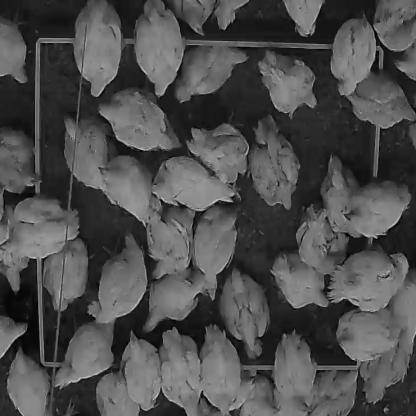chicken: (97, 88, 182, 153), (54, 301, 113, 390), (326, 251, 408, 313), (249, 115, 301, 212), (134, 1, 184, 100), (73, 0, 123, 98), (143, 268, 216, 334), (220, 268, 270, 360), (3, 198, 78, 259), (151, 156, 234, 211), (192, 207, 240, 302), (98, 234, 147, 323), (174, 46, 247, 104), (257, 51, 319, 118), (346, 70, 415, 130), (342, 180, 410, 239), (186, 122, 249, 185), (329, 13, 375, 96), (98, 156, 152, 226), (160, 328, 202, 415), (200, 326, 240, 414), (295, 207, 347, 274), (320, 155, 361, 239), (42, 238, 87, 314), (63, 116, 108, 192), (147, 210, 195, 281), (270, 254, 329, 310), (274, 331, 316, 407), (362, 344, 412, 407), (5, 347, 51, 415), (121, 331, 160, 411), (336, 308, 392, 362), (0, 129, 41, 194), (308, 370, 359, 415), (372, 1, 416, 52), (0, 10, 28, 84), (389, 272, 415, 348), (95, 373, 141, 415), (168, 1, 218, 36), (235, 372, 273, 415), (282, 1, 324, 38), (0, 243, 28, 296), (211, 1, 251, 32), (0, 316, 27, 360), (394, 43, 416, 81), (0, 186, 9, 247), (272, 401, 309, 415), (408, 124, 416, 152), (197, 412, 235, 416)
